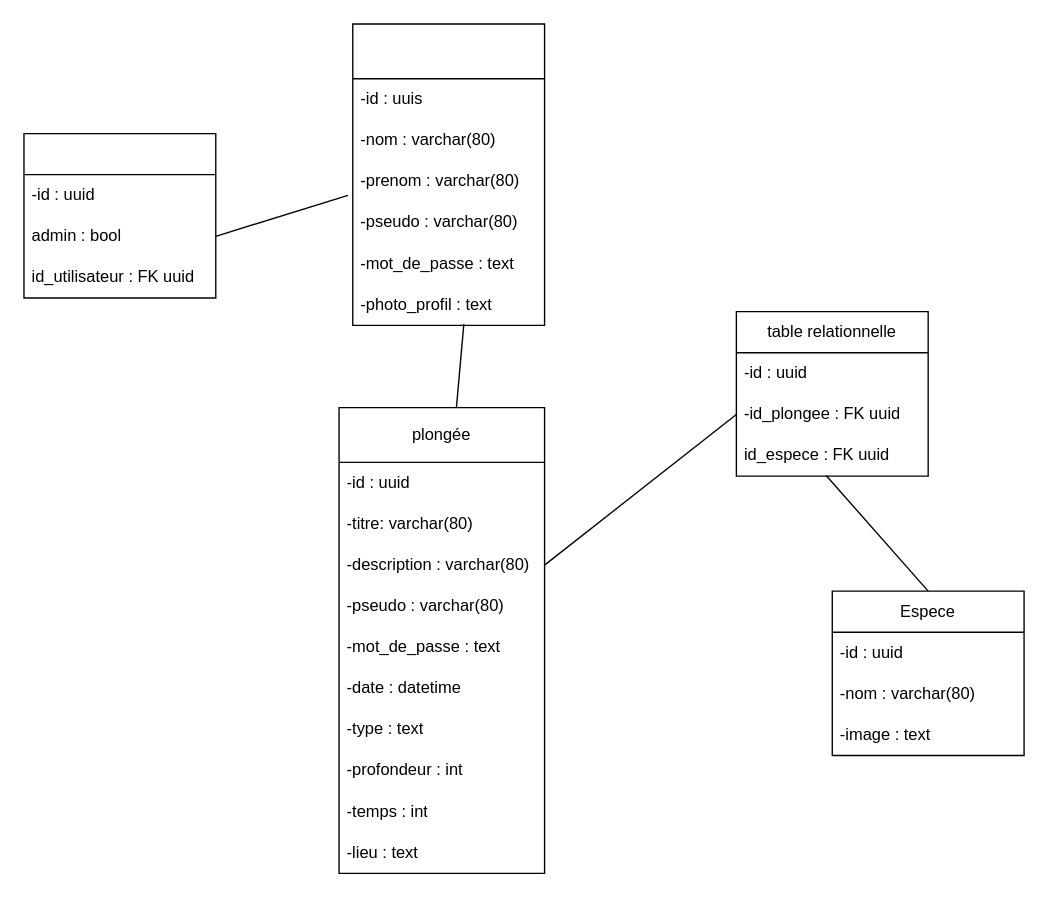
Some shapes in this 1048 by 897 pixel diagram are drawn without their labels. The shapes that lost their labels are listed below. From the top down, each one's box as (x1, y1, x2, y2) in pixels, then its label:
(351, 23, 545, 325): Utilisateur
(23, 132, 216, 298): Role
